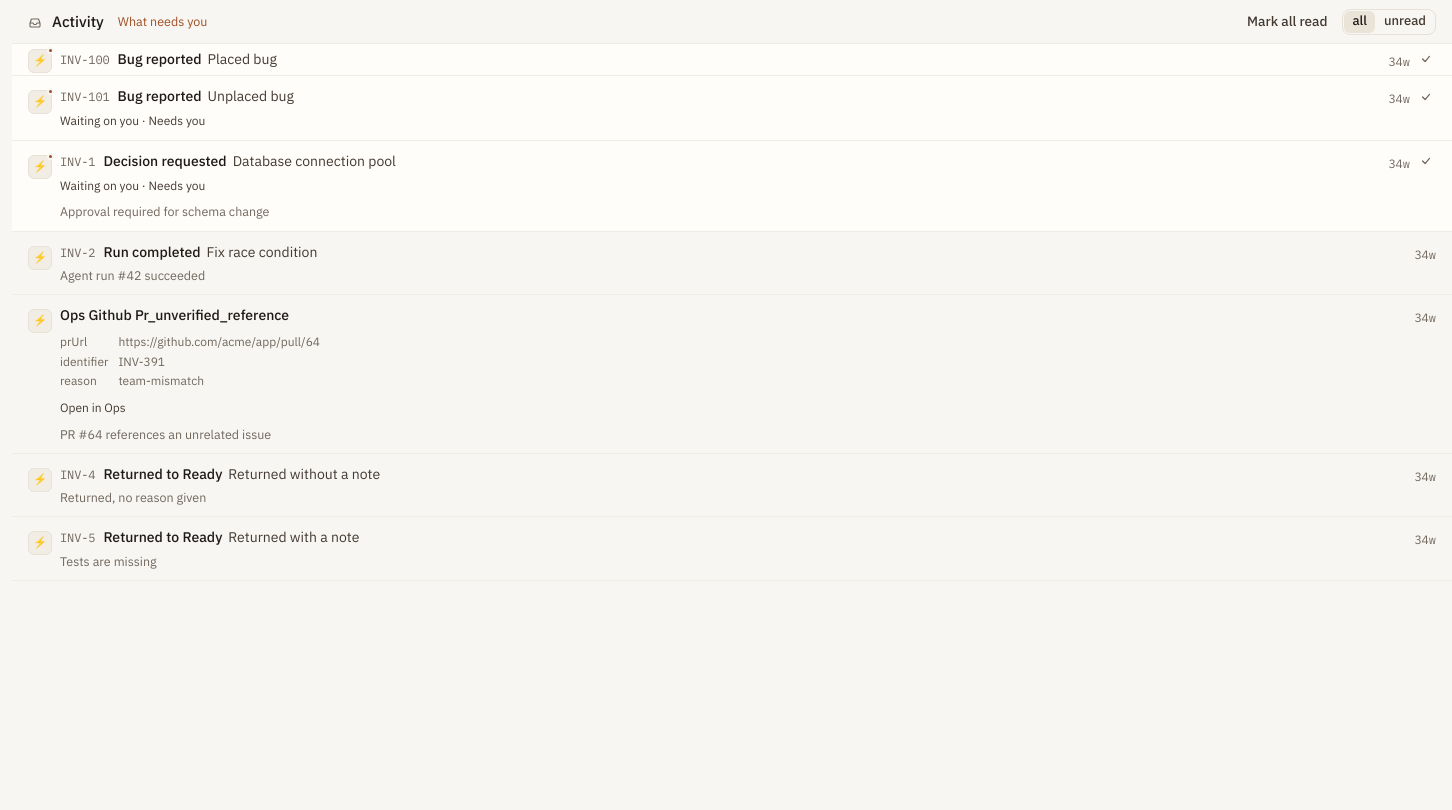
Test case: InboxPage › shows both bug reports but links only the triage report to Needs you (INV-2113)
Press Enter in the 1st link "Waiting on you · Needs you", box [60,112,205,130]
Click the 1st link "Waiting on you · Needs you" at (133, 121), box [60,112,205,130]
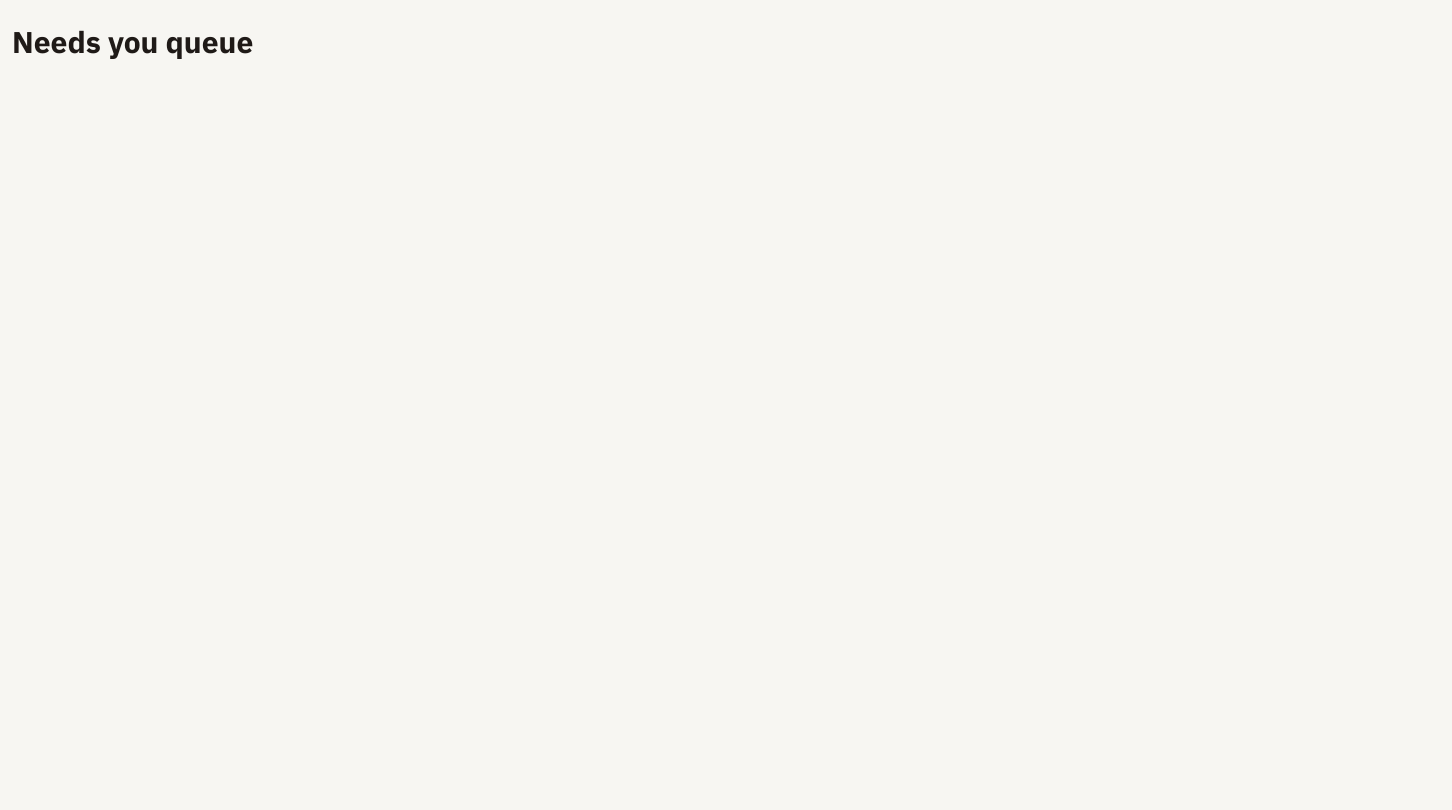
Expected: the heading "Needs you queue" is shown, [12,22,253,61]
